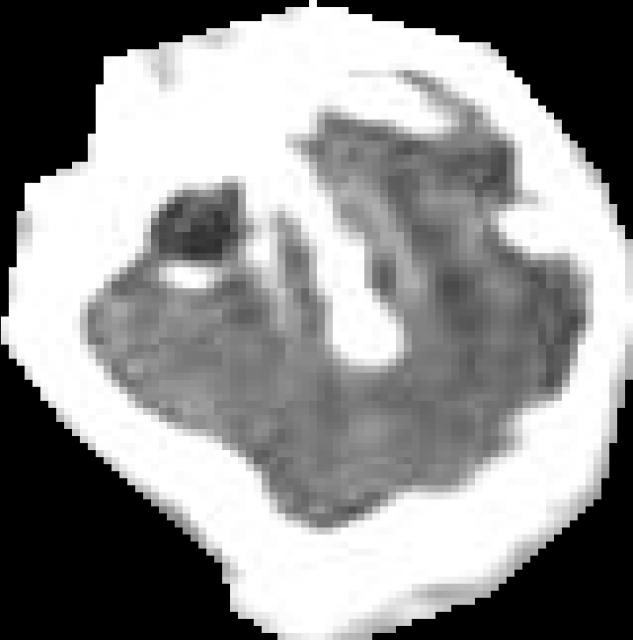tumor_moderate_chance: (1, 0, 633, 640)
